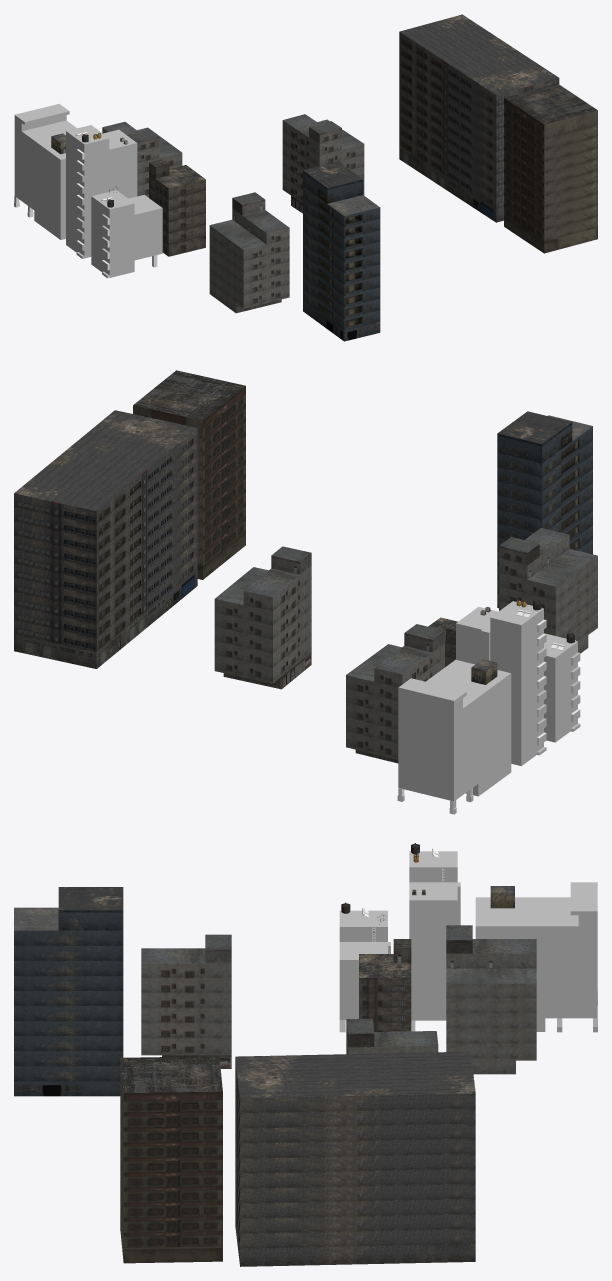
File: Buildings Set 04.fbx
3 views of the same model, one above another, from view 1: azimuth 30°, elevation 25°; view 2: azimuth 150°, elevation 25°; view 3: azimuth 270°, elevation 25° (orthographic). The views are drawn at different scales.
Parts seen in each view (by area): view 1: Tower05, Tower04, Tower02 (×3), Tower09, MidrangeTall_01, MidrangeQuarters, MidrangeTall_02, Tower03; view 2: Tower05, Tower02 (×3), MidrangeQuarters, Tower09, Tower04, MidrangeTall_01, MidrangeTall_02, Tower03; view 3: Tower05, Tower02 (×3), Tower09, Tower04, MidrangeQuarters, MidrangeTall_01, Tower03, MidrangeTall_02, RoofBlockout.
Boxes of the visible parts, box(x1,y1,x2,y2) form: Tower05: box(399, 14, 559, 222); Tower04: box(504, 83, 597, 253); Tower02 (×3): box(102, 114, 364, 313); Tower09: box(303, 161, 380, 341); MidrangeTall_01: box(66, 125, 137, 258); MidrangeQuarters: box(14, 103, 76, 239); MidrangeTall_02: box(91, 190, 162, 277); Tower03: box(149, 159, 205, 256); Tower05: box(14, 410, 197, 668); Tower02 (×3): box(214, 528, 597, 763); MidrangeQuarters: box(397, 659, 511, 814); Tower09: box(497, 411, 592, 608); Tower04: box(133, 370, 245, 579); MidrangeTall_01: box(456, 601, 546, 766); MidrangeTall_02: box(544, 634, 580, 742); Tower03: box(428, 617, 457, 666); Tower05: box(235, 1051, 475, 1266); Tower02 (×3): box(141, 925, 536, 1074); Tower09: box(14, 887, 123, 1096); Tower04: box(120, 1056, 222, 1263); MidrangeQuarters: box(475, 882, 597, 1032); MidrangeTall_01: box(409, 851, 460, 1020); Tower03: box(359, 939, 411, 1031); MidrangeTall_02: box(339, 910, 390, 1019); RoofBlockout: box(490, 886, 514, 908).
Bounding box in the file's own units: 194 × 63.27 × 180.
